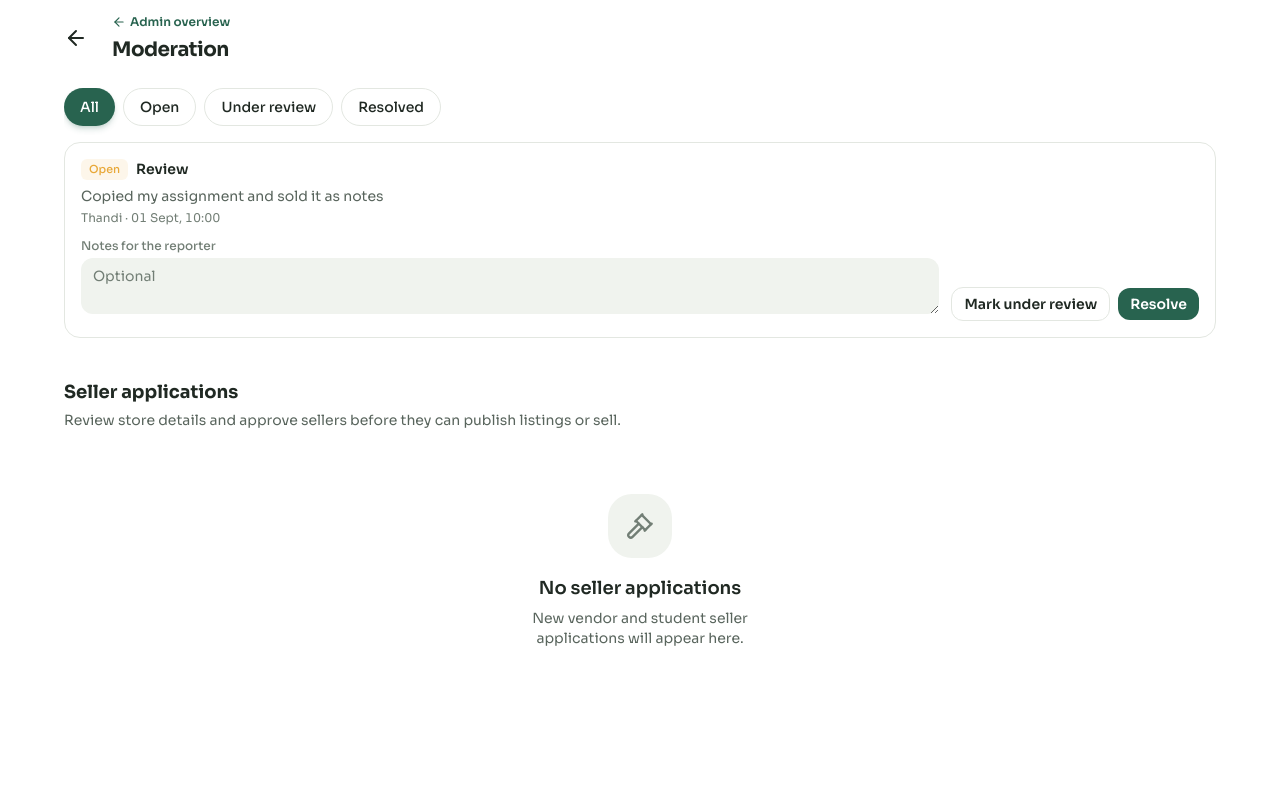
Scenario: Moderation › says so when the report has left the queue by the time a decision reaches it
This screenshot has width=1280, height=812.
Click the button "Resolve" at (1159, 304), box [1118,288,1199,320]
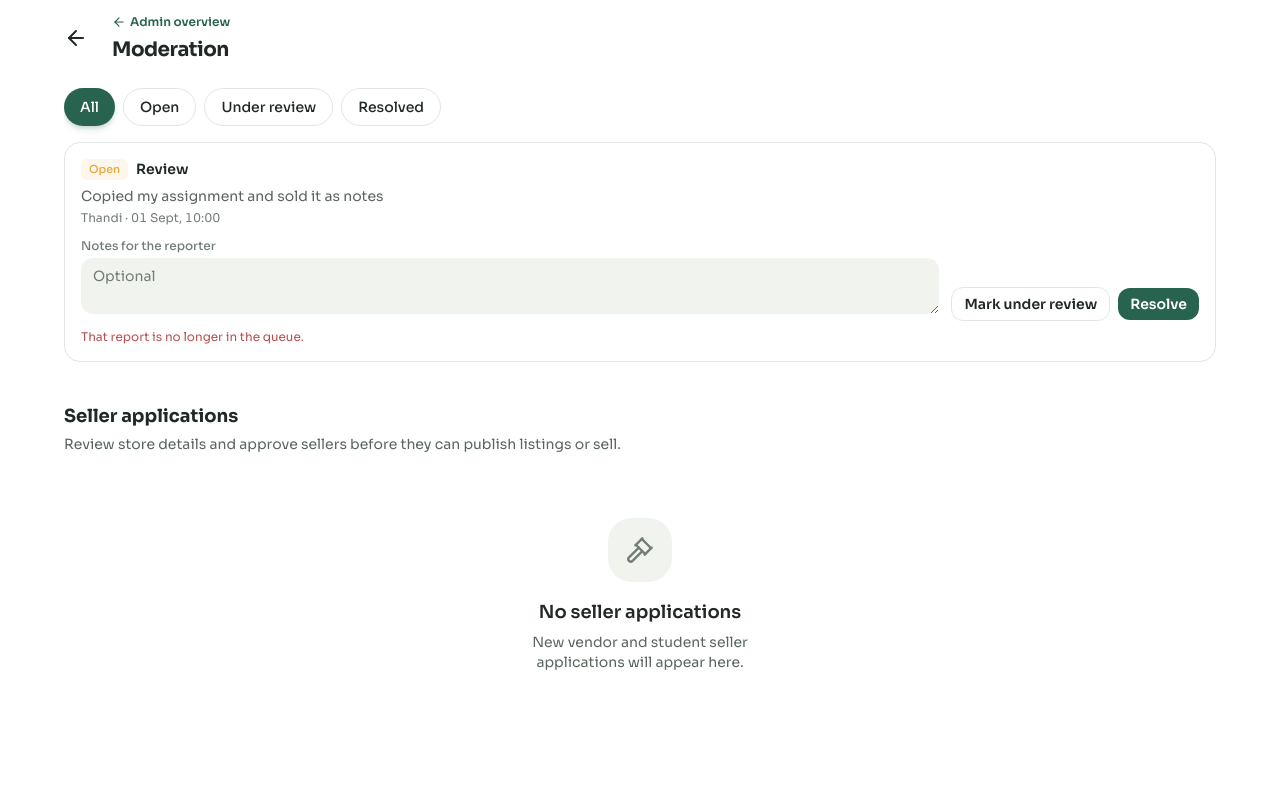
Expected: the text "Open" is shown, [81,159,128,180]
Now the message shows "no longer in the queue", box [81,328,304,344]
